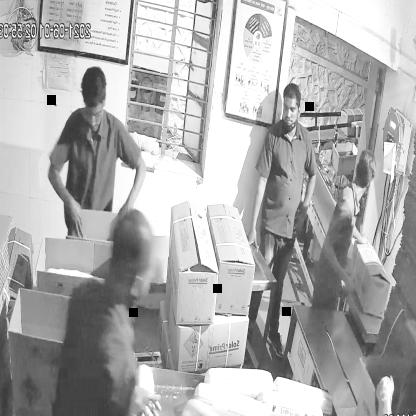no_goggles: (275, 98, 304, 121)
